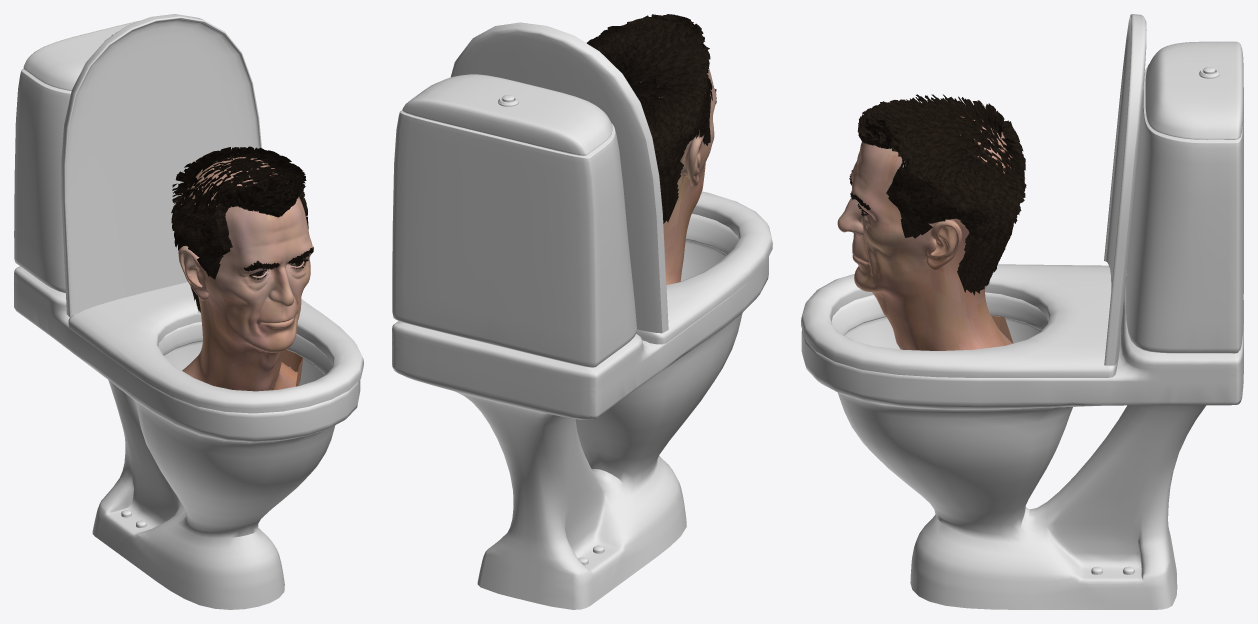
The model's file is Skibidy.fbx.
3 views of the same model, side by side, from view 1: azimuth 30°, elevation 25°; view 2: azimuth 150°, elevation 25°; view 3: azimuth 270°, elevation 25° (orthographic). The views are drawn at different scales.
Parts seen in each view (by area): view 1: Object_5, Object_2, Object_3, Object_7, Object_6, Object_8, Object_10; view 2: Object_5, Object_2, Object_7, Object_3, Object_6, Object_10, Object_11, Object_8; view 3: Object_5, Object_2, Object_3, Object_7, Object_10, Object_6, Object_11, Object_8.
Boxes of the visible parts, left/top/right/bottom form: Object_5: left=14, top=20, right=360, bottom=609; Object_2: left=61, top=14, right=363, bottom=527; Object_3: left=178, top=156, right=312, bottom=391; Object_7: left=174, top=146, right=306, bottom=312; Object_6: left=174, top=147, right=306, bottom=312; Object_8: left=176, top=147, right=306, bottom=272; Object_10: left=171, top=172, right=313, bottom=271; Object_5: left=392, top=74, right=768, bottom=609; Object_2: left=451, top=22, right=772, bottom=565; Object_7: left=587, top=14, right=710, bottom=223; Object_3: left=640, top=68, right=716, bottom=284; Object_6: left=587, top=15, right=710, bottom=220; Object_10: left=635, top=81, right=716, bottom=141; Object_11: left=653, top=135, right=680, bottom=176; Object_8: left=592, top=15, right=709, bottom=179; Object_5: left=801, top=41, right=1243, bottom=609; Object_2: left=801, top=14, right=1219, bottom=574; Object_3: left=837, top=116, right=1013, bottom=350; Object_7: left=857, top=94, right=1025, bottom=293; Object_10: left=849, top=121, right=1026, bottom=224; Object_6: left=858, top=94, right=1025, bottom=295; Object_11: left=857, top=177, right=1025, bottom=235; Object_8: left=860, top=94, right=1019, bottom=243.
Bounding box in the file's own units: 6916 × 17059 × 12293.
